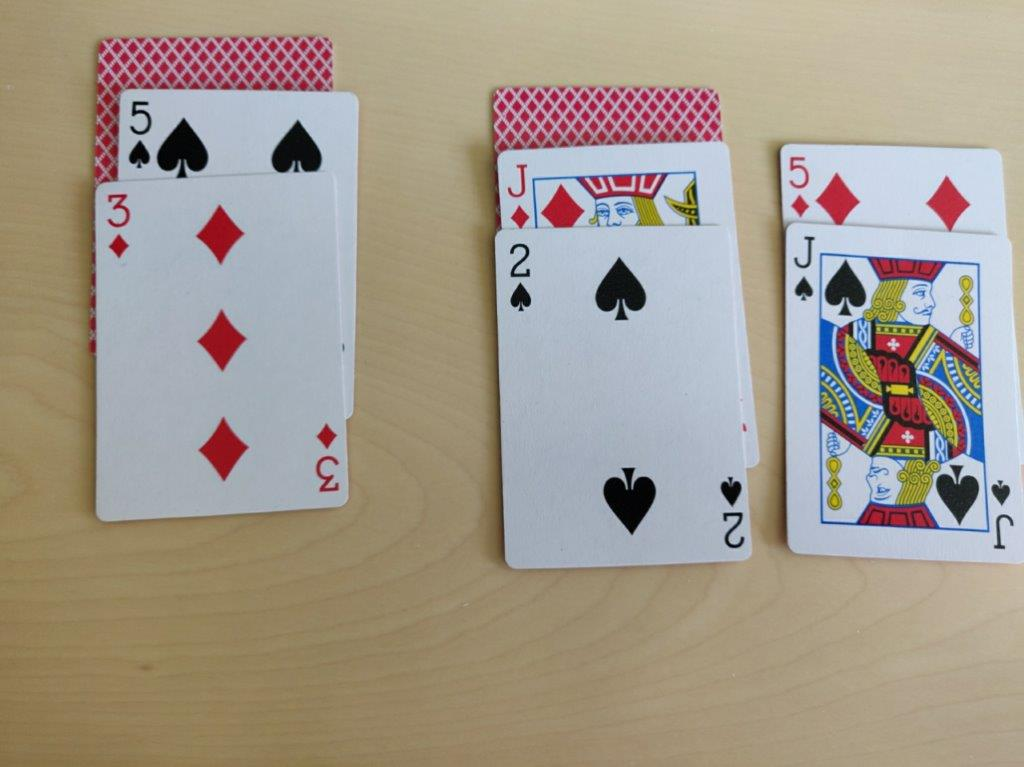2S: (501, 234, 537, 317)
3D: (99, 185, 136, 267)
5D: (785, 151, 816, 221)
5S: (122, 97, 156, 174)
BACK: (492, 79, 737, 148), (93, 34, 331, 91)
JD: (502, 155, 539, 232)
JS: (785, 229, 820, 306)
